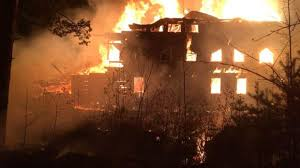fire: (81, 8, 286, 93)
